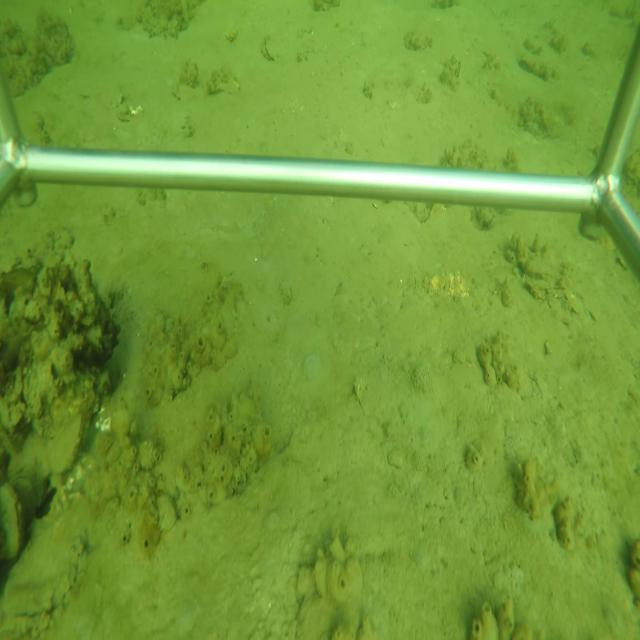Oyster-Closed: (42, 412, 83, 479), (4, 482, 24, 561)
